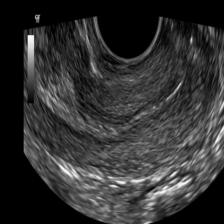no-pcos: (38, 45, 220, 220)
